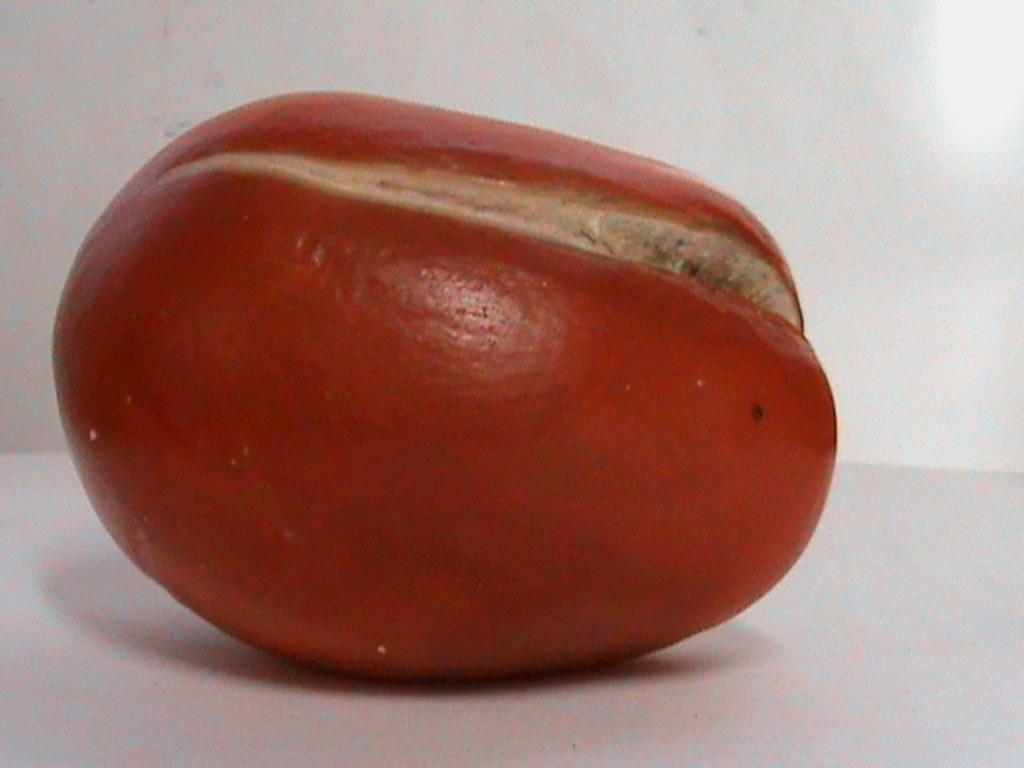surface_damage: (165, 152, 797, 323), (752, 405, 765, 421)
tomato: (54, 93, 835, 675)
